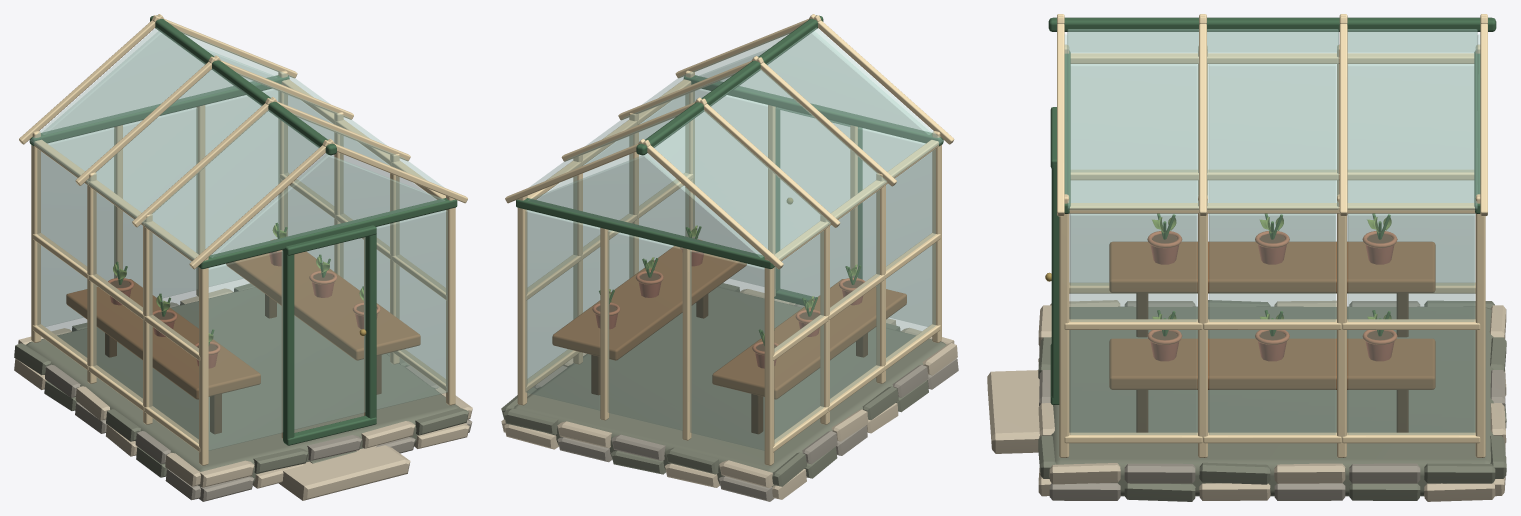
The model's file is invernadero.glb.
3 renders of one model, left to right at view 1: azimuth 30°, elevation 25°; view 2: azimuth 150°, elevation 25°; view 3: azimuth 270°, elevation 25°, orthographic. The views are drawn at different scales.
Parts seen in each view (by area): view 1: invernadero; view 2: invernadero; view 3: invernadero.
Boxes of the visible parts, x1=… form: invernadero: x1=14, y1=14, x2=472, y2=501; invernadero: x1=501, y1=14, x2=958, y2=501; invernadero: x1=987, y1=14, x2=1506, y2=501.
Size of the model in its own units: 2.33 by 2.58 by 2.99.
